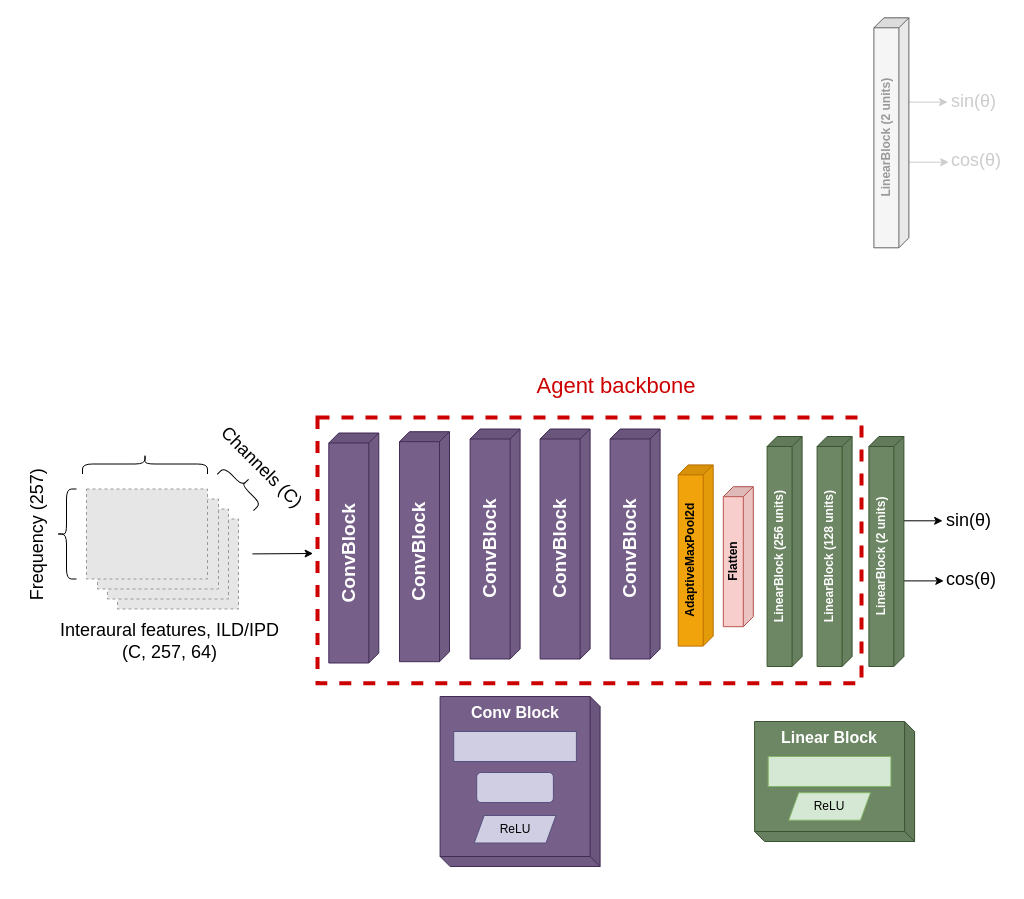
Image size: 1024x899. Some labels were removed from this diagram. Grey dashed boxes stand in for pictures. The centre of each missing label's shape, as x and y in pixels:
"Batch Norm" goes at pixel 514 787.
"Conv2D" goes at pixel 514 746.
"Linear" goes at pixel 829 771.
"Time (64)" goes at pixel 145 463.
